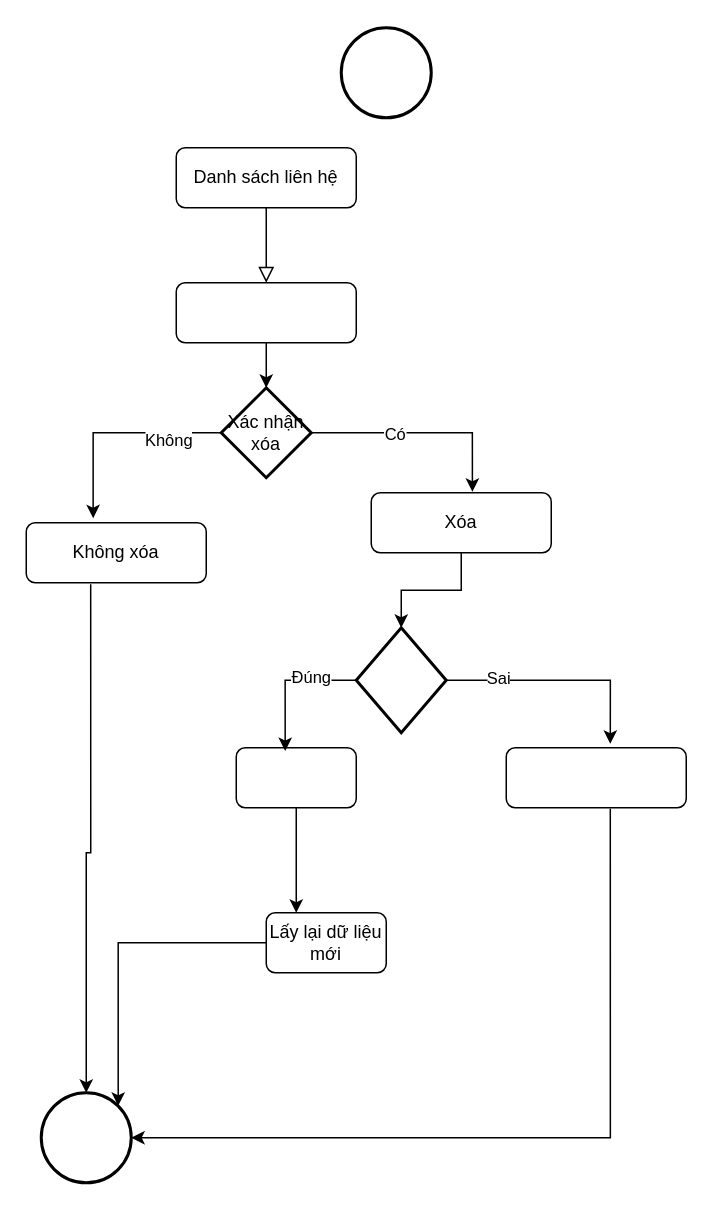
This 713x1209 diagram has some shape labels left out. Each missing label, with the centre of its shape:
Thông báo lỗi: (595,777)
Thông báo thành công: (295,777)
Xóa Liên hệ: (265,312)
